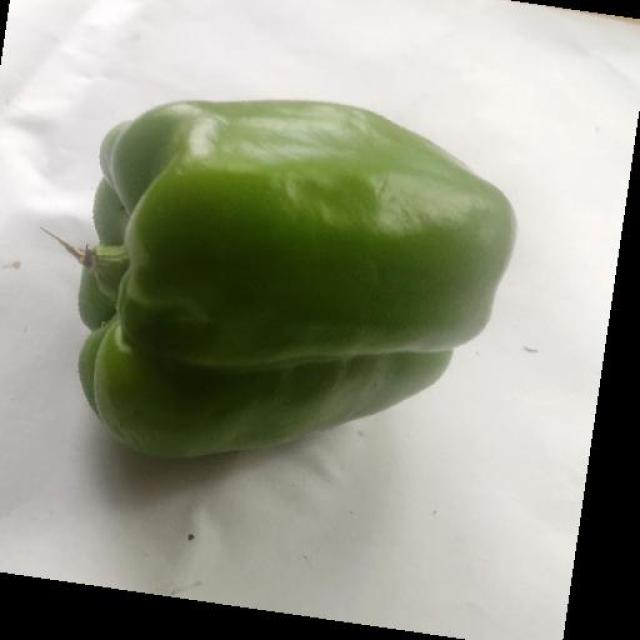Fresh_Capsicum: (75, 108, 490, 450)
